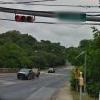Car: (14, 67, 54, 85)
